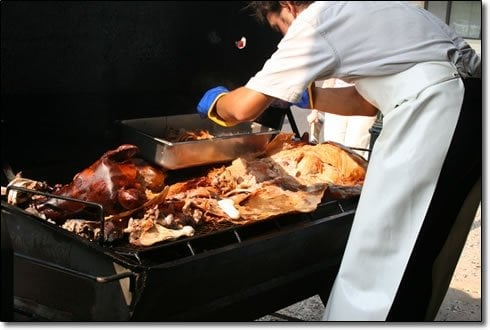sandwich: (8, 136, 365, 250)
